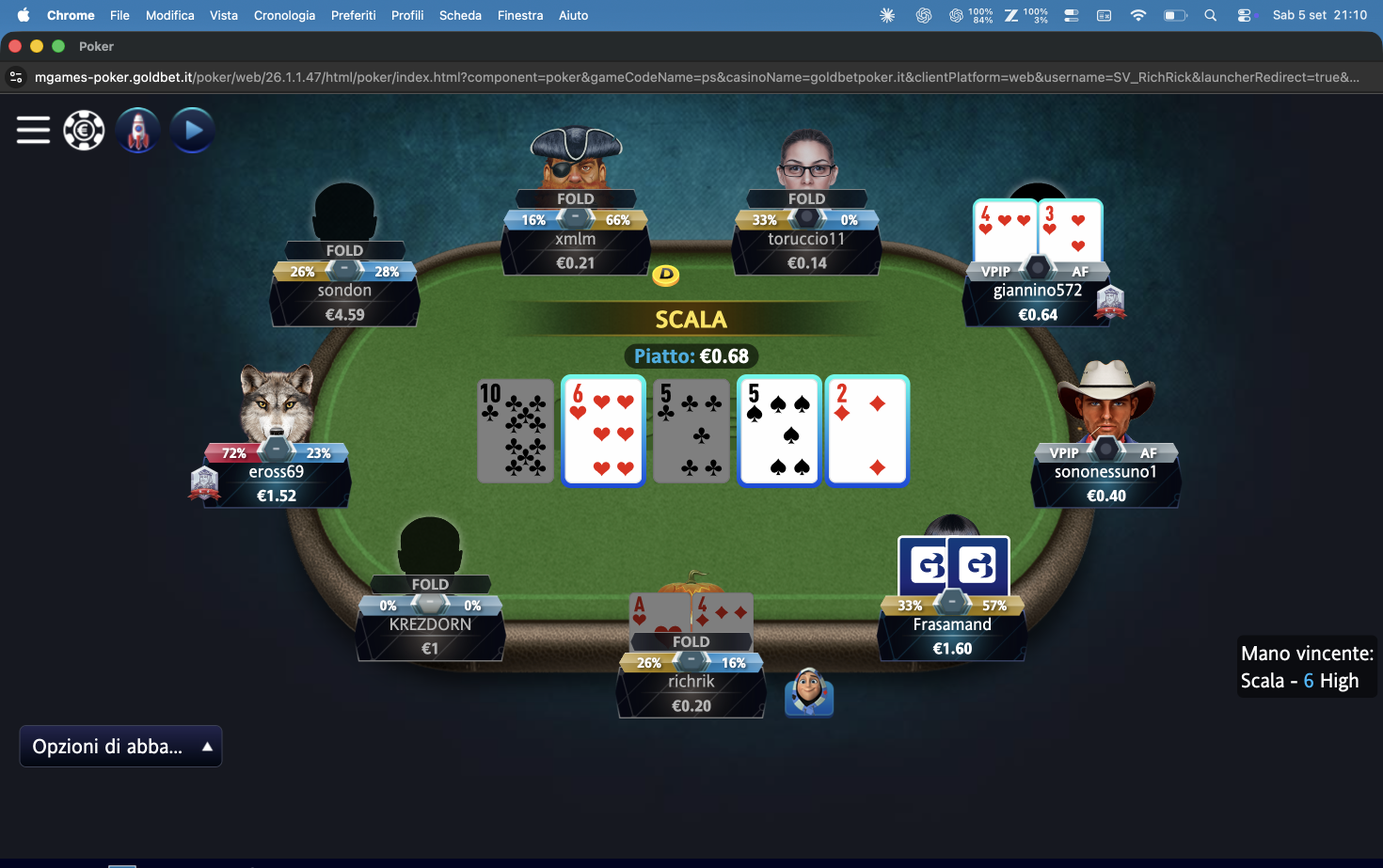2h: (835, 379, 910, 482)
5s: (746, 379, 822, 482)
7h: (571, 379, 646, 482)
